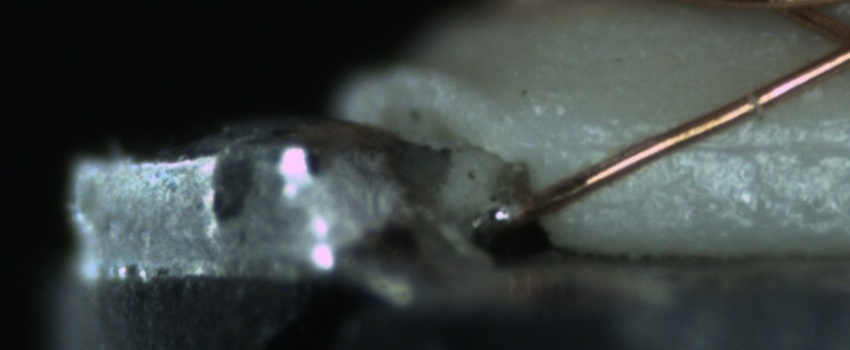CL: (808, 10, 850, 78)
DL: (610, 111, 849, 179)
